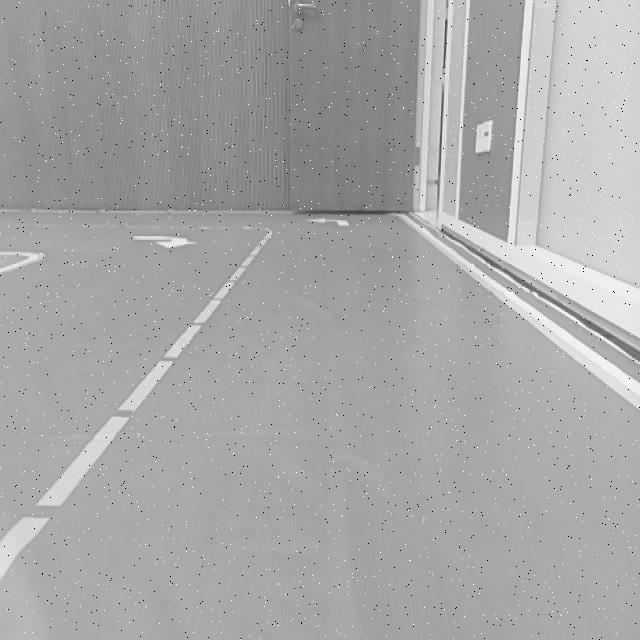left_lane: (0, 233, 272, 581)
right_lane: (406, 221, 640, 410)
